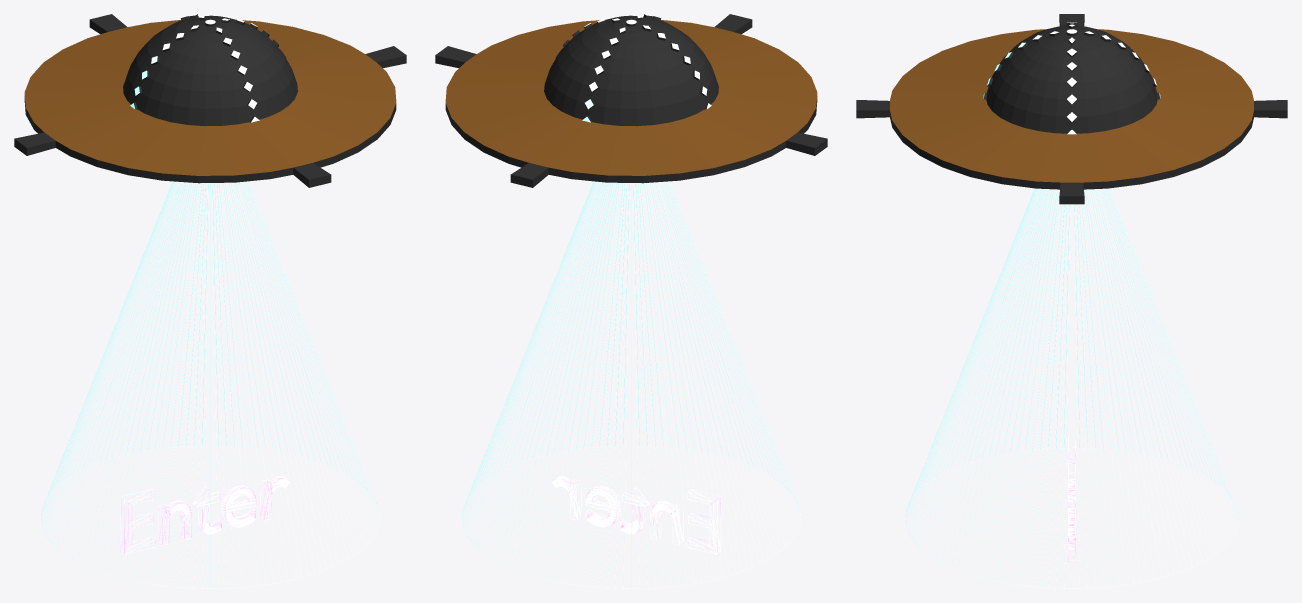
The model's file is UFO.glb.
3 renders of one model, left to right at view 1: azimuth 30°, elevation 25°; view 2: azimuth 150°, elevation 25°; view 3: azimuth 270°, elevation 25°, orthographic.
Parts seen in each view (by area): view 1: UFO, Wireframe, Text; view 2: UFO, Wireframe, Text; view 3: UFO, Wireframe, Text.
Boxes of the visible parts, x1,y1,x2,y2 form: UFO: (14, 14, 406, 187); Wireframe: (41, 181, 379, 588); Text: (120, 476, 289, 554); UFO: (435, 14, 827, 187); Wireframe: (462, 181, 800, 588); Text: (552, 476, 721, 554); UFO: (856, 14, 1287, 204); Wireframe: (905, 188, 1238, 588); Text: (1068, 436, 1075, 561).
Size of the model in its own units: 4.91 by 6.31 by 4.91.
